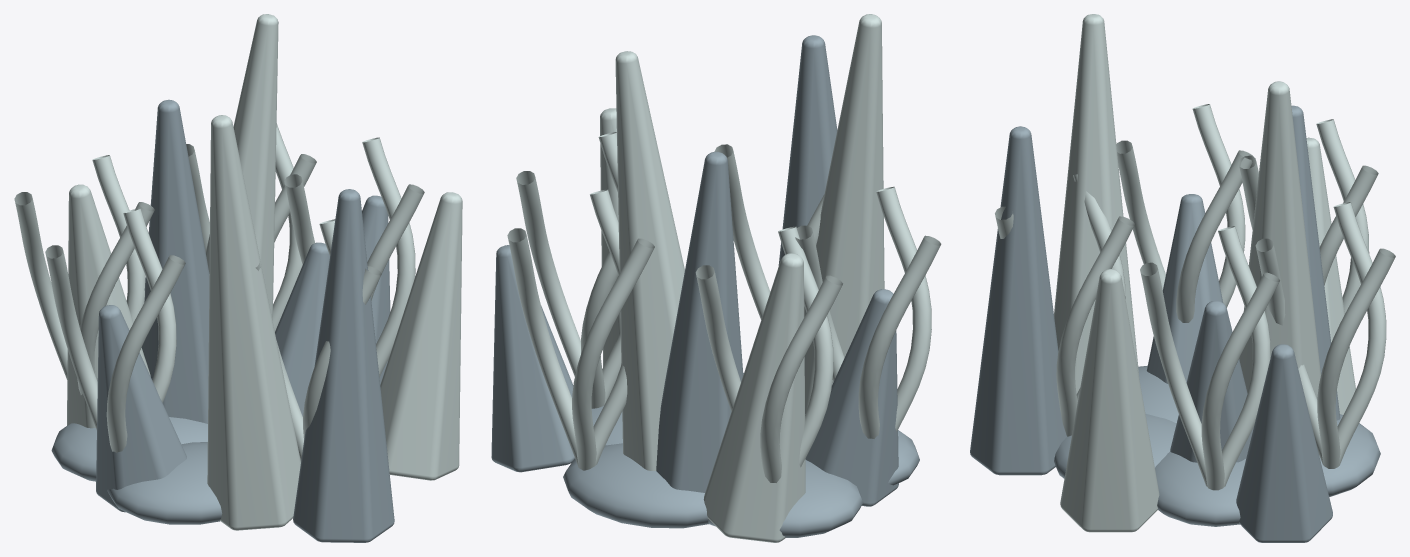
Rendered from bio_crystal_fan_04_near.glb.
3 renders of one model, left to right at view 1: azimuth 30°, elevation 25°; view 2: azimuth 150°, elevation 25°; view 3: azimuth 270°, elevation 25°, orthographic. The views are drawn at different scales.
Parts seen in each view (by area): view 1: Reflecting mineral prism.007, Reflecting mineral prism.002, Reflecting mineral prism.005, Reflecting mineral prism.006, Spiral filament.012, Reflecting mineral prism.004, Reflecting mineral prism.003, Mineral substrate, Spiral filament.003, Spiral filament, Reflecting mineral prism.001, Reflecting mineral prism (+3 smaller); view 2: Reflecting mineral prism.003, Reflecting mineral prism.006, Reflecting mineral prism.001, Reflecting mineral prism.007, Mineral substrate, Spiral filament.009, Reflecting mineral prism.008, Spiral filament.003, Reflecting mineral prism.004, Spiral filament.012, Reflecting mineral prism.002, Spiral filament (+2 smaller); view 3: Reflecting mineral prism.002, Reflecting mineral prism.005, Reflecting mineral prism.007, Reflecting mineral prism.008, Spiral filament, Reflecting mineral prism.003, Spiral filament.009, Mineral substrate, Spiral filament.012, Spiral filament.006, Reflecting mineral prism.004, Reflecting mineral prism (+3 smaller).
Boxes of the visible parts, <box> form: Reflecting mineral prism.007: <box>207,115,300,530</box>; Reflecting mineral prism.002: <box>293,189,394,542</box>; Reflecting mineral prism.005: <box>380,192,462,480</box>; Reflecting mineral prism.006: <box>141,99,209,423</box>; Spiral filament.012: <box>45,208,185,452</box>; Reflecting mineral prism.004: <box>96,305,186,512</box>; Reflecting mineral prism.003: <box>205,14,278,320</box>; Mineral substrate: <box>51,417,222,524</box>; Spiral filament.003: <box>14,155,154,394</box>; Spiral filament: <box>284,137,424,376</box>; Reflecting mineral prism.001: <box>67,184,150,428</box>; Reflecting mineral prism: <box>275,242,329,416</box>; Reflecting mineral prism.003: <box>615,51,684,470</box>; Reflecting mineral prism.006: <box>656,151,743,492</box>; Reflecting mineral prism.001: <box>703,253,805,542</box>; Reflecting mineral prism.007: <box>804,14,884,413</box>; Mineral substrate: <box>563,373,919,537</box>; Spiral filament.009: <box>507,189,654,470</box>; Reflecting mineral prism.008: <box>491,245,574,472</box>; Spiral filament.003: <box>695,226,842,482</box>; Reflecting mineral prism.004: <box>805,289,898,506</box>; Spiral filament.012: <box>795,186,941,438</box>; Reflecting mineral prism.002: <box>778,35,837,265</box>; Spiral filament: <box>516,132,621,408</box>; Reflecting mineral prism.002: <box>970,126,1066,475</box>; Reflecting mineral prism.005: <box>1060,269,1159,532</box>; Reflecting mineral prism.007: <box>1054,14,1139,393</box>; Reflecting mineral prism.008: <box>1236,344,1332,542</box>; Spiral filament: <box>1140,226,1279,490</box>; Reflecting mineral prism.003: <box>1239,81,1320,399</box>; Spiral filament.009: <box>1255,202,1395,468</box>; Mineral substrate: <box>1054,365,1380,526</box>; Spiral filament.012: <box>1116,104,1253,322</box>; Spiral filament.006: <box>995,174,1134,436</box>; Reflecting mineral prism.004: <box>1146,194,1223,383</box>; Reflecting mineral prism: <box>1170,301,1253,462</box>.
Size of the model in its own units: 1.65 by 1.73 by 1.61.
